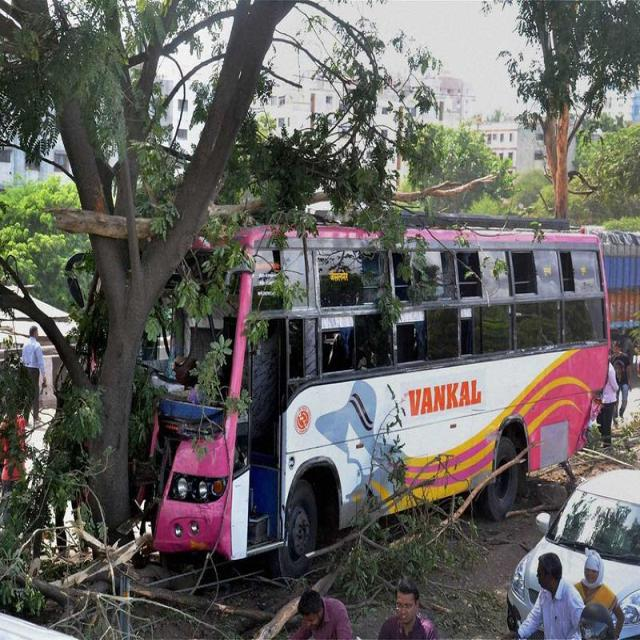accident: (148, 218, 610, 576)
car: (506, 470, 640, 638)
